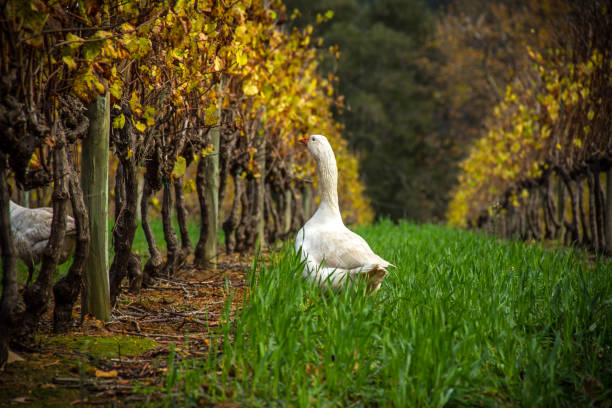goose: (280, 130, 397, 301)
